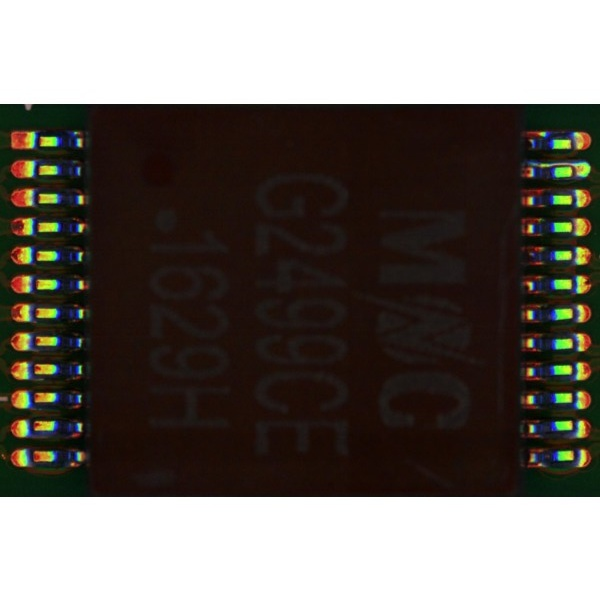Bad_podu: (564, 164, 582, 174)
Bad_qiaojiao: (525, 161, 571, 166)
